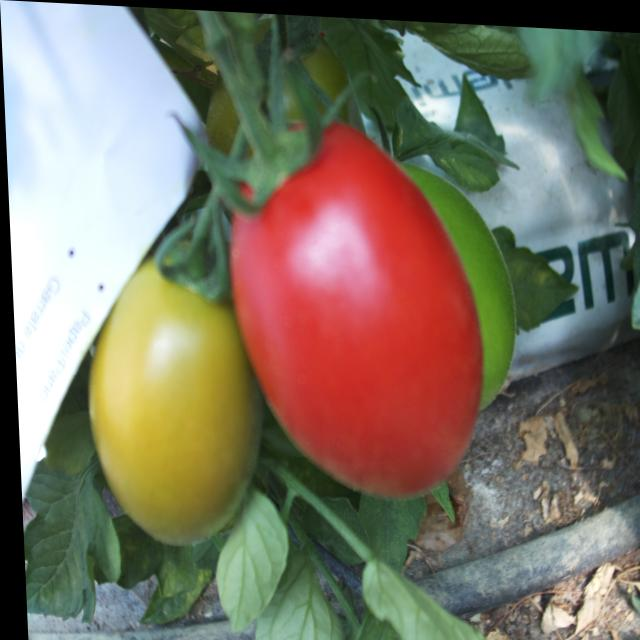kirmizi: (222, 120, 495, 508)
yesil: (79, 232, 259, 549)
